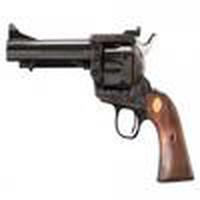gun: (2, 28, 196, 185)
